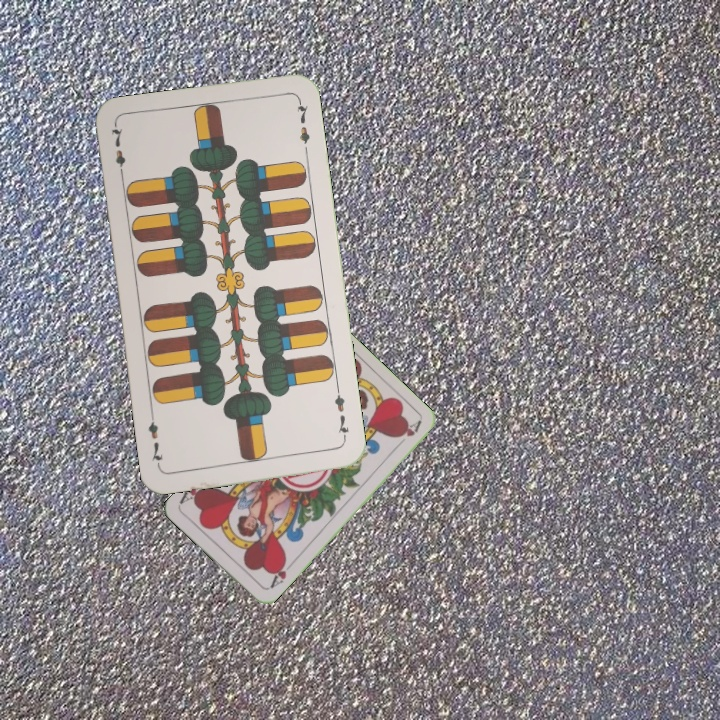E7: (107, 122, 129, 181), (331, 385, 352, 444)
HA: (264, 556, 296, 591)
